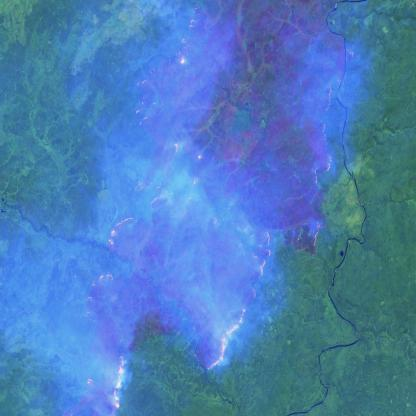fire: (76, 0, 275, 416)
